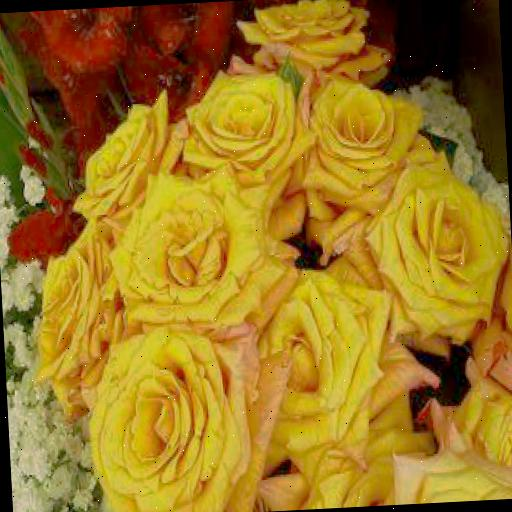rose: (87, 319, 274, 512), (244, 254, 398, 452), (110, 161, 284, 336), (372, 147, 512, 341), (299, 68, 423, 208), (70, 78, 190, 212), (23, 232, 113, 409), (186, 57, 310, 181)
